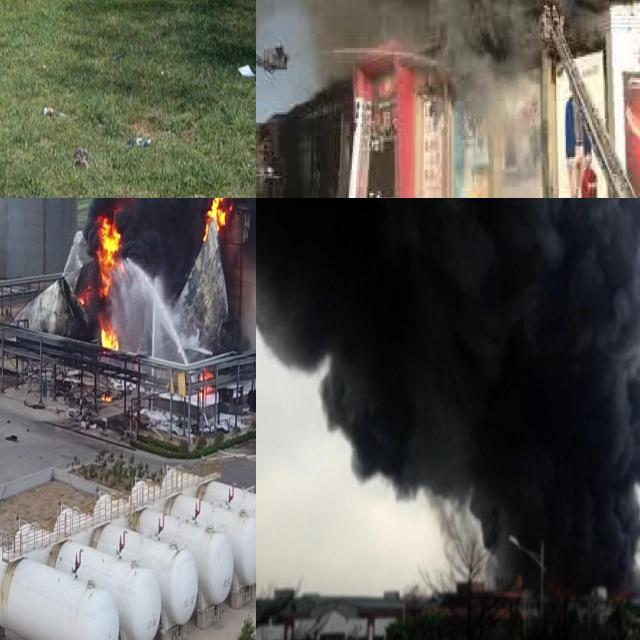fire: (85, 212, 123, 354), (203, 198, 231, 240), (200, 366, 214, 395), (101, 390, 111, 404)
smoke: (256, 198, 640, 591), (256, 0, 589, 76)
